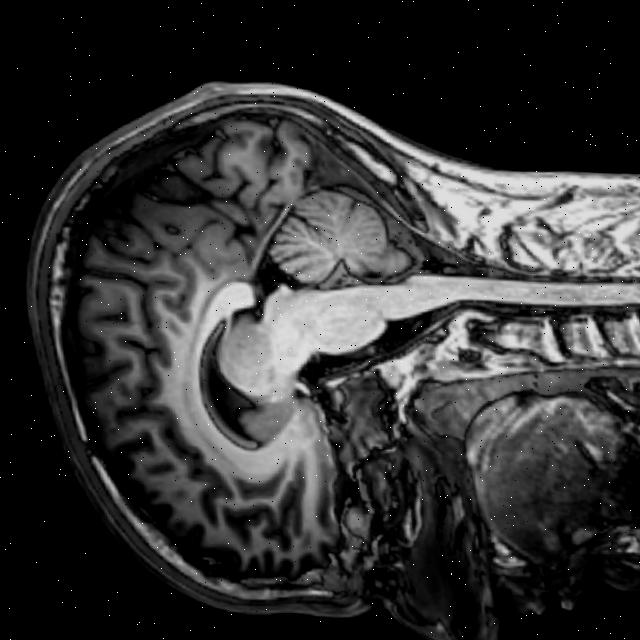NoTumor: (7, 70, 448, 625)
